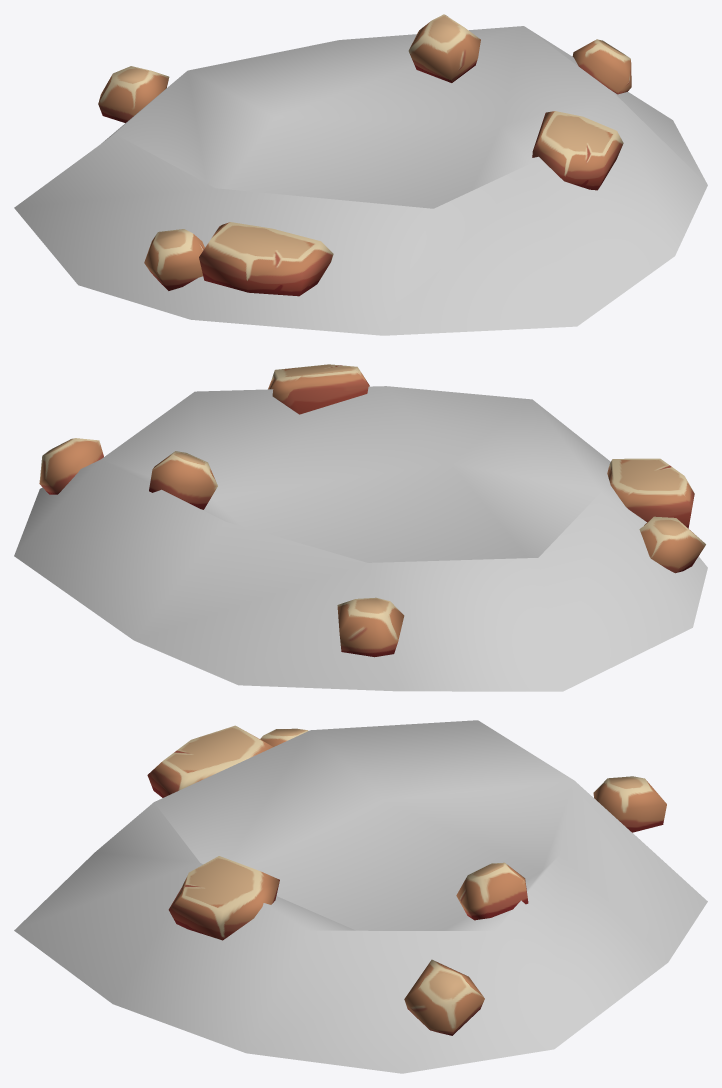
Rendered from hole.fbx.
3 renders of one model, top to bottom at view 1: azimuth 30°, elevation 25°; view 2: azimuth 150°, elevation 25°; view 3: azimuth 270°, elevation 25°, orthographic. The views are drawn at different scales.
Visible parts, largest first — view 1: polySurface186; view 2: polySurface186; view 3: polySurface186.
Part boxes in pixels (x1,y1,x2,y2): polySurface186: (14, 14, 707, 335); polySurface186: (14, 364, 707, 691); polySurface186: (14, 720, 707, 1073).
Size of the model in its own units: 144 by 25.4 by 136.
